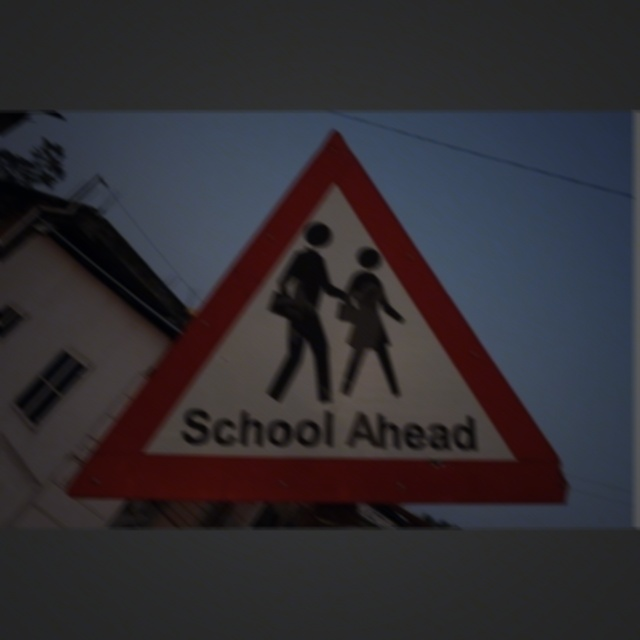School_Ahead: (122, 134, 547, 496)
